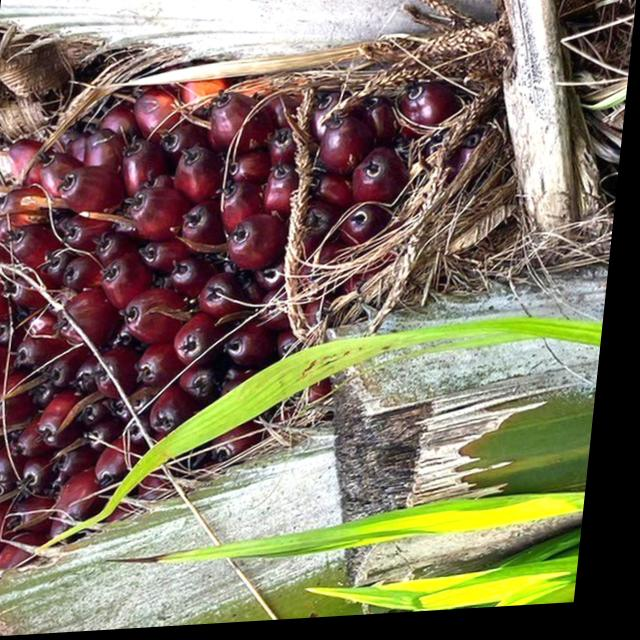ripe: (0, 49, 479, 618)
